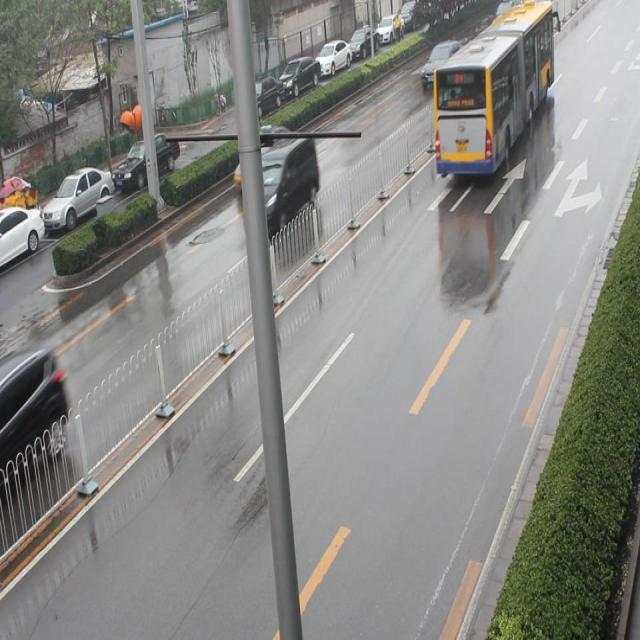car: (1, 346, 75, 507), (229, 127, 298, 188), (417, 34, 462, 84)
truck: (247, 138, 324, 231)
van: (433, 1, 553, 171)
